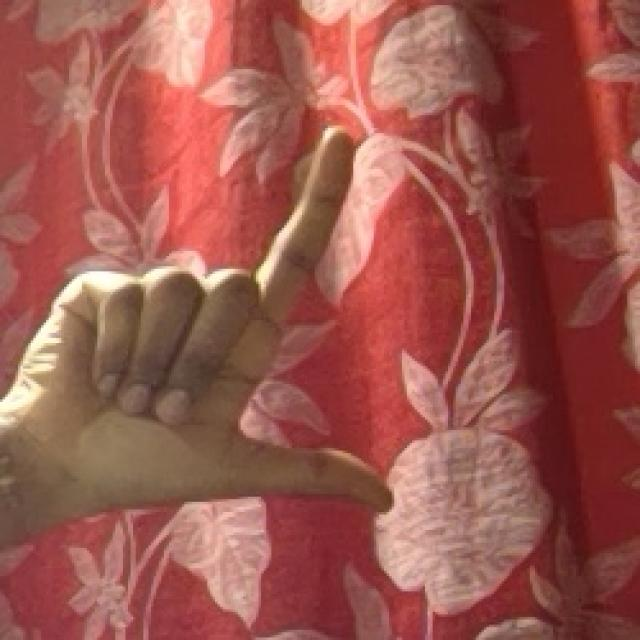Alphabet-L: (32, 127, 428, 531)
